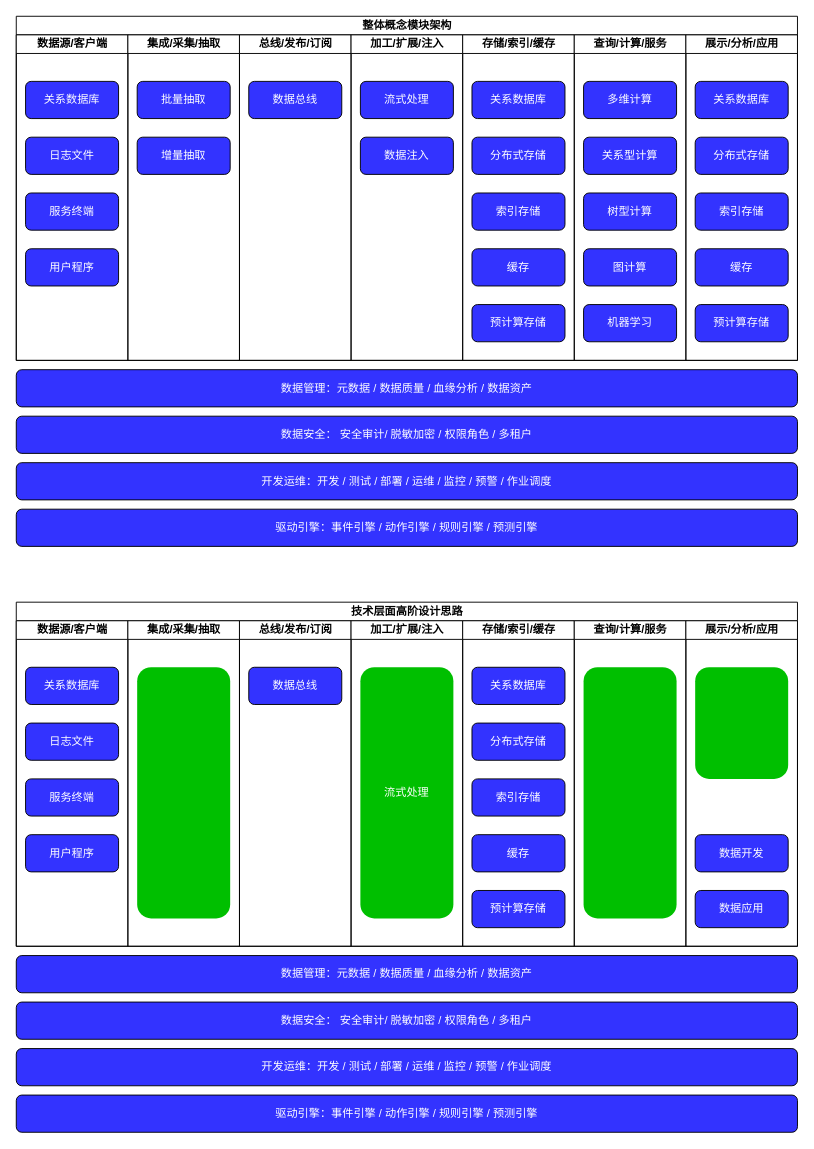
This 814x1149 diagram has some shape labels left out. Here are the shapes that lost their labels. From the top down, the box of each, then its label:
(695, 667, 788, 778): 数据可视化
(137, 667, 230, 918): 数据采集
(583, 667, 676, 918): 计算服务
